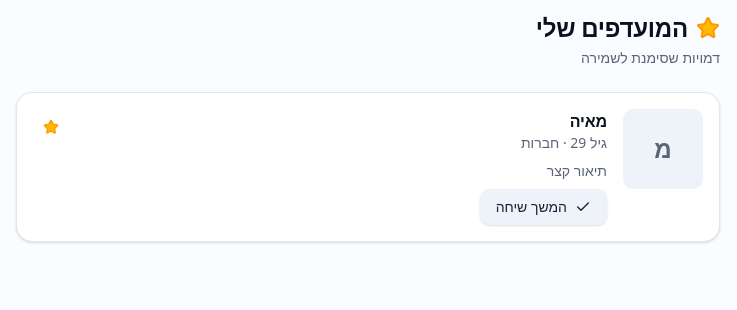
Scenario: client favorites workflow › reconciles an ambiguous removal with a read and never retries the write
Click the button named "הסר ממועדפים" at [51, 127], box x1=33 y1=109 x2=69 y2=145
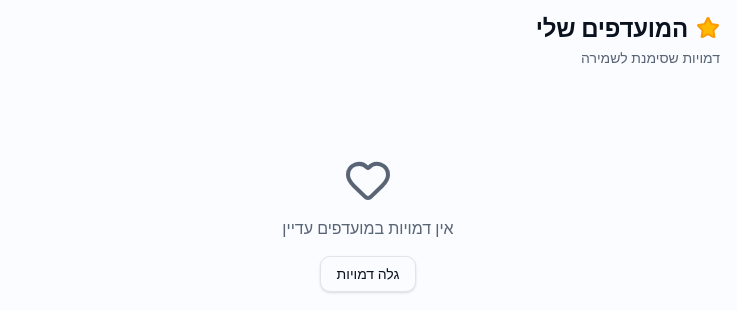
Expected: the text "אין דמויות במועדפים עדיין" is shown, x1=282 y1=217 x2=454 y2=239
